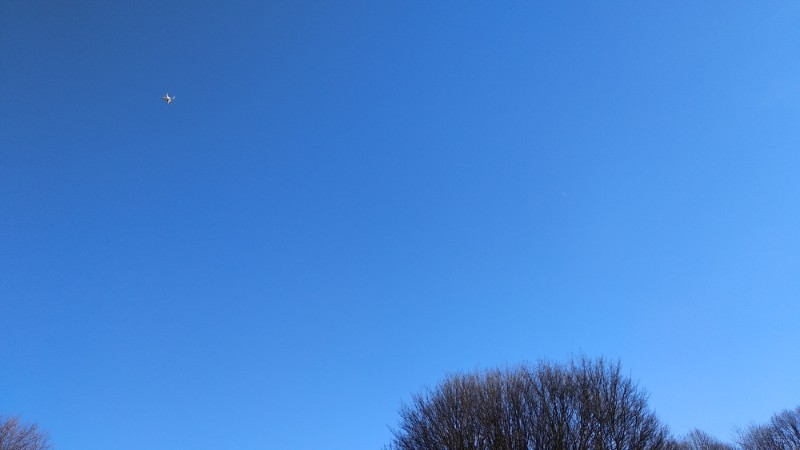drone: (162, 90, 177, 105)
